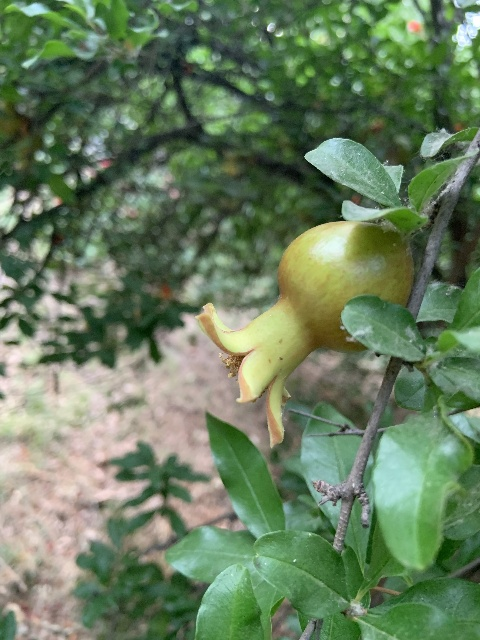mid-growth: (196, 219, 413, 446)
